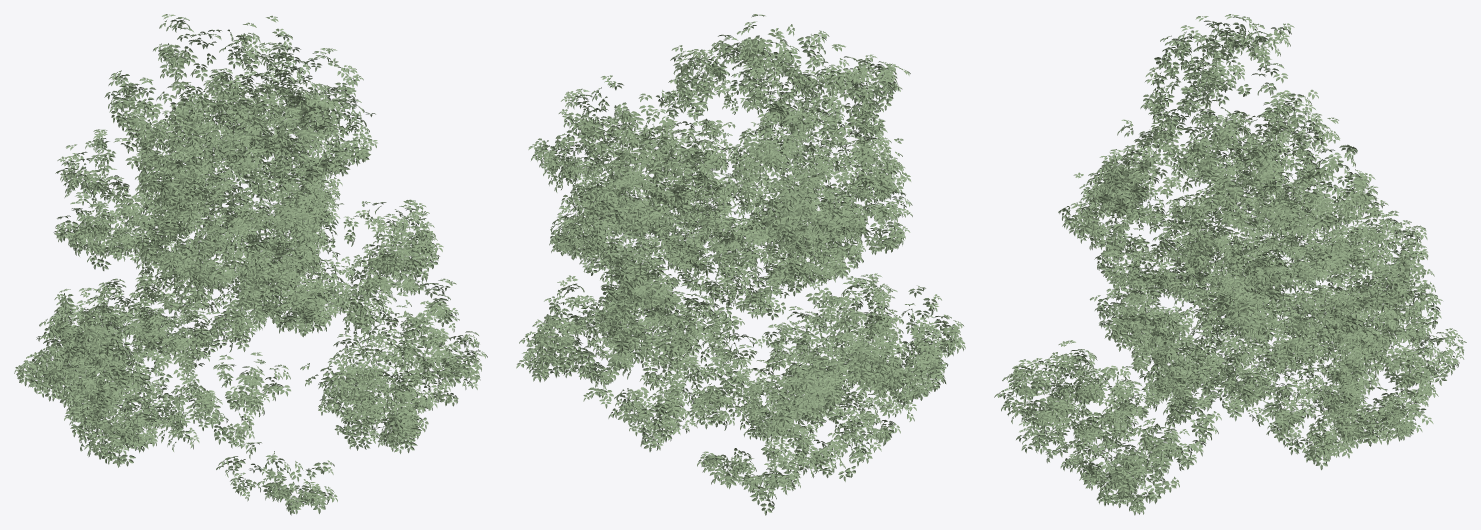
Rendered from lujiazui-31.glb.
3 views of the same model, side by side, from view 1: azimuth 30°, elevation 25°; view 2: azimuth 150°, elevation 25°; view 3: azimuth 270°, elevation 25° (orthographic).
Parts seen in each view (by area): view 1: source_4861_leaf_part1, source_4861_leaf_part0, source_4861_leaf_part2; view 2: source_4861_leaf_part0, source_4861_leaf_part1, source_4861_leaf_part2; view 3: source_4861_leaf_part1, source_4861_leaf_part0, source_4861_leaf_part2.
Boxes of the visible parts, left/top/right/bottom form: source_4861_leaf_part1: left=52, top=14, right=481, bottom=514; source_4861_leaf_part0: left=17, top=91, right=487, bottom=515; source_4861_leaf_part2: left=14, top=48, right=439, bottom=442; source_4861_leaf_part0: left=516, top=125, right=965, bottom=515; source_4861_leaf_part1: left=528, top=14, right=912, bottom=501; source_4861_leaf_part2: left=523, top=73, right=960, bottom=450; source_4861_leaf_part1: left=1004, top=14, right=1392, bottom=515; source_4861_leaf_part0: left=994, top=162, right=1463, bottom=514; source_4861_leaf_part2: left=1064, top=92, right=1466, bottom=445.
Size of the model in its own units: 7.43 by 8.34 by 7.81.
